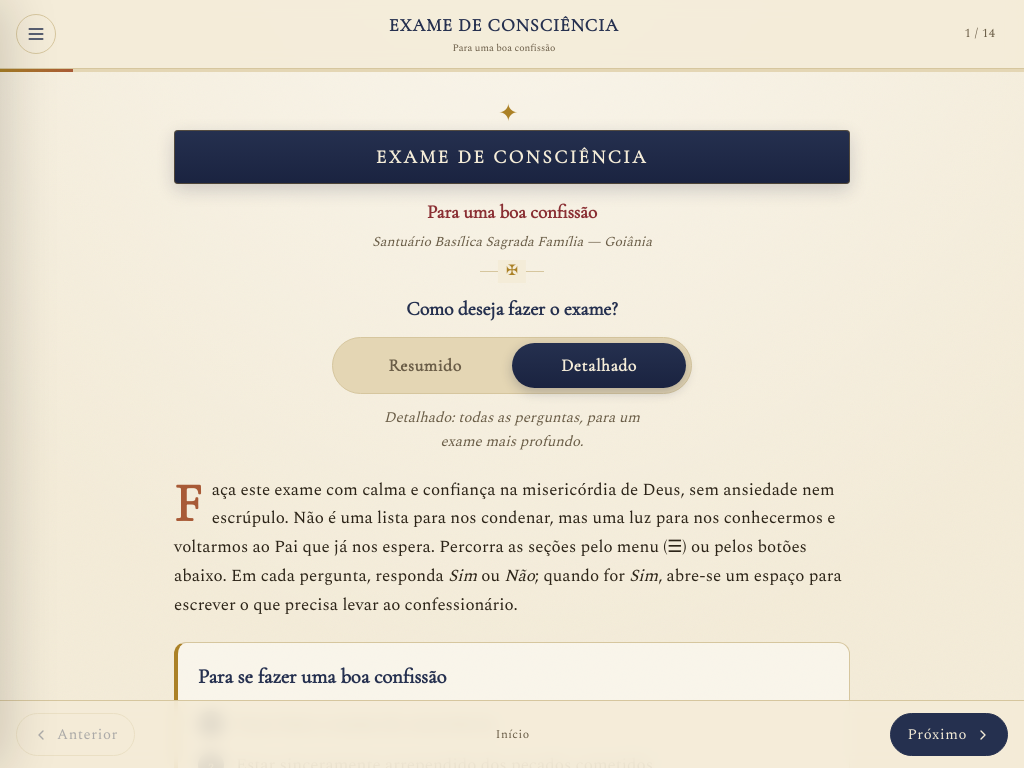
Test: App › oferece o botão 'Não se aplica' nas perguntas
Click the button named "Abrir índice".
click(36, 34)  # box [16,14,56,54]
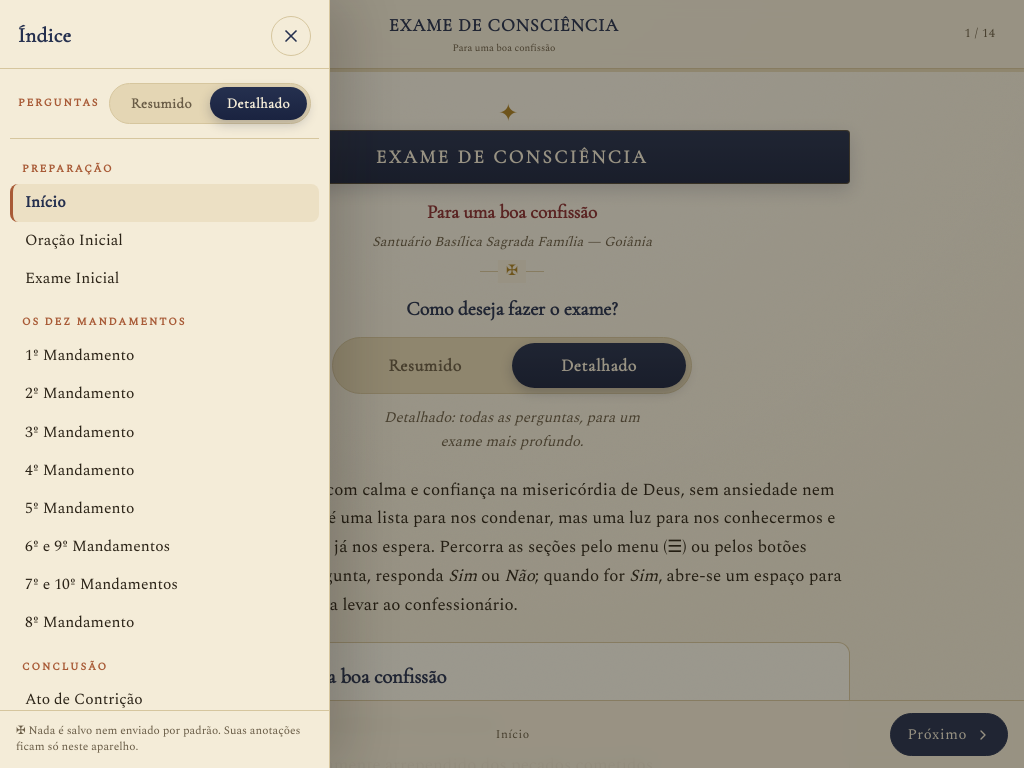
Click the button "Exame Inicial".
click(72, 279)  # box [10,260,319,298]
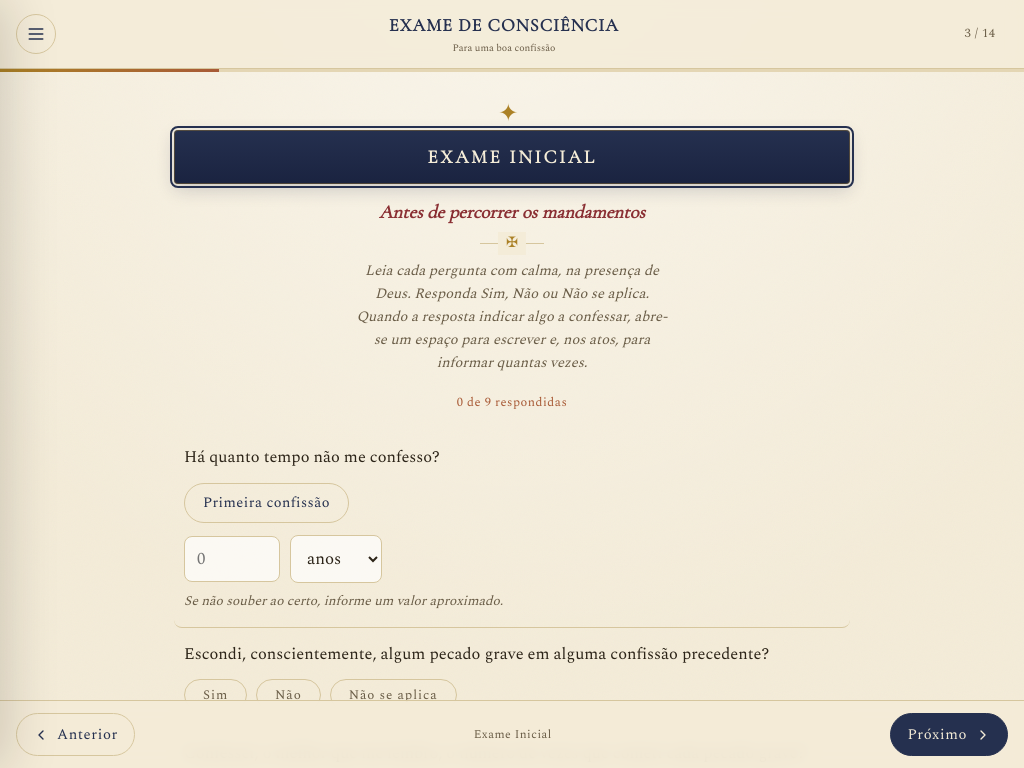
Now the button "Não se aplica" is shown, box [330,679,456,711]
